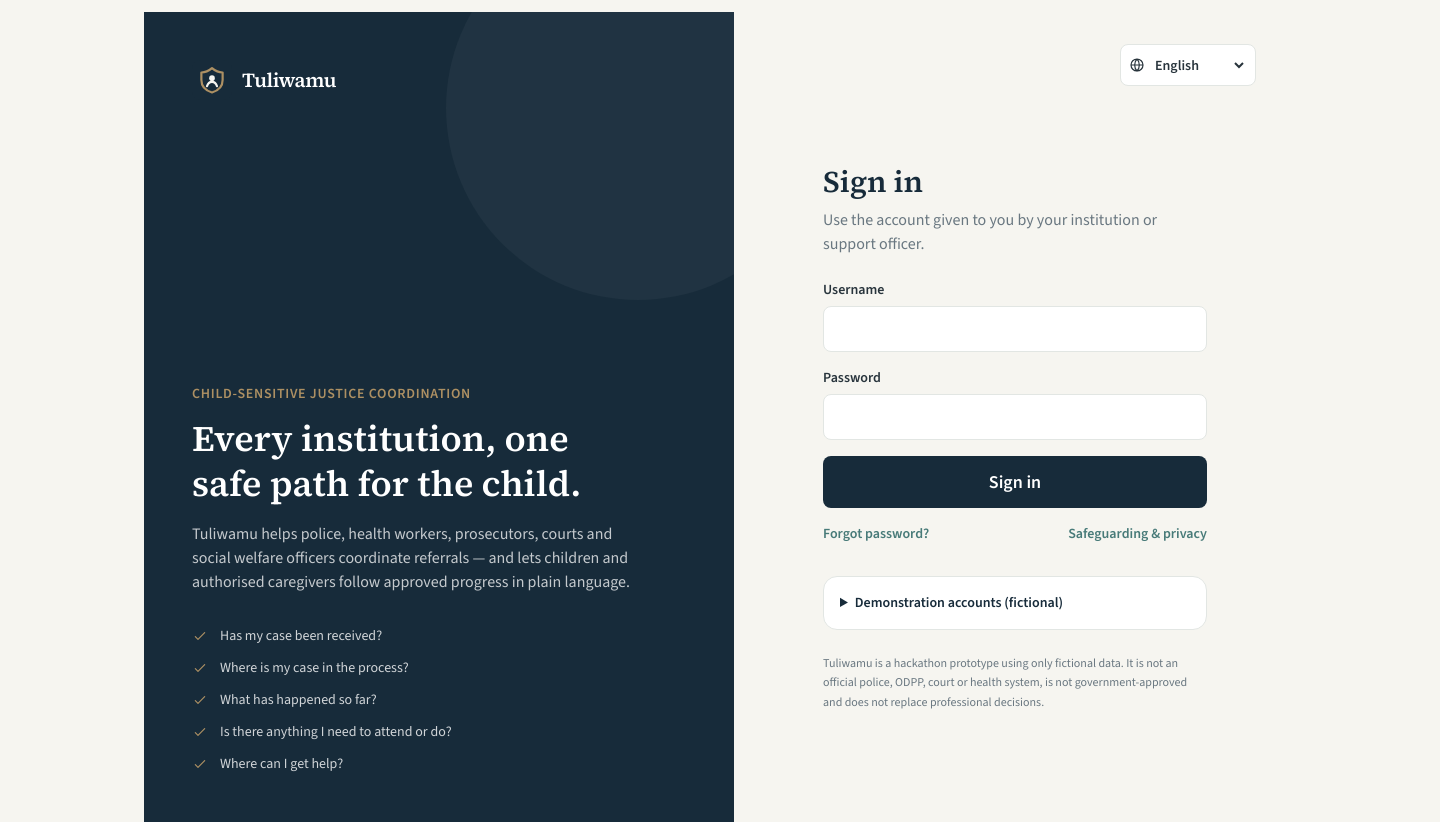
Test: authentication journeys › shows a generic error for wrong credentials
Type "x" into the field labelled "Username" at [1015, 329], box 823,306 -> 1207,352
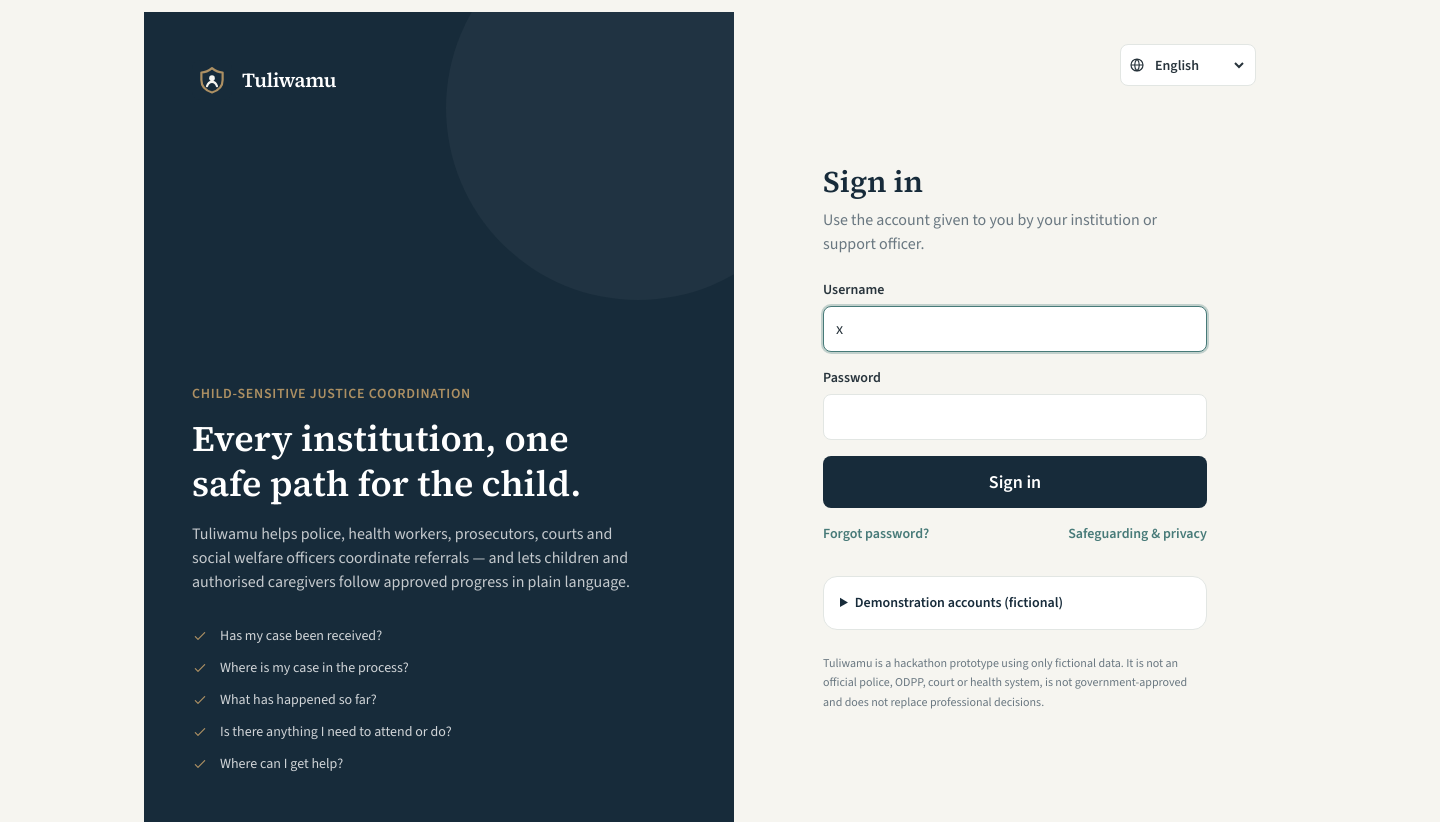
Type "y" into the password field labelled "Password" at [1015, 417], box 823,394 -> 1207,440
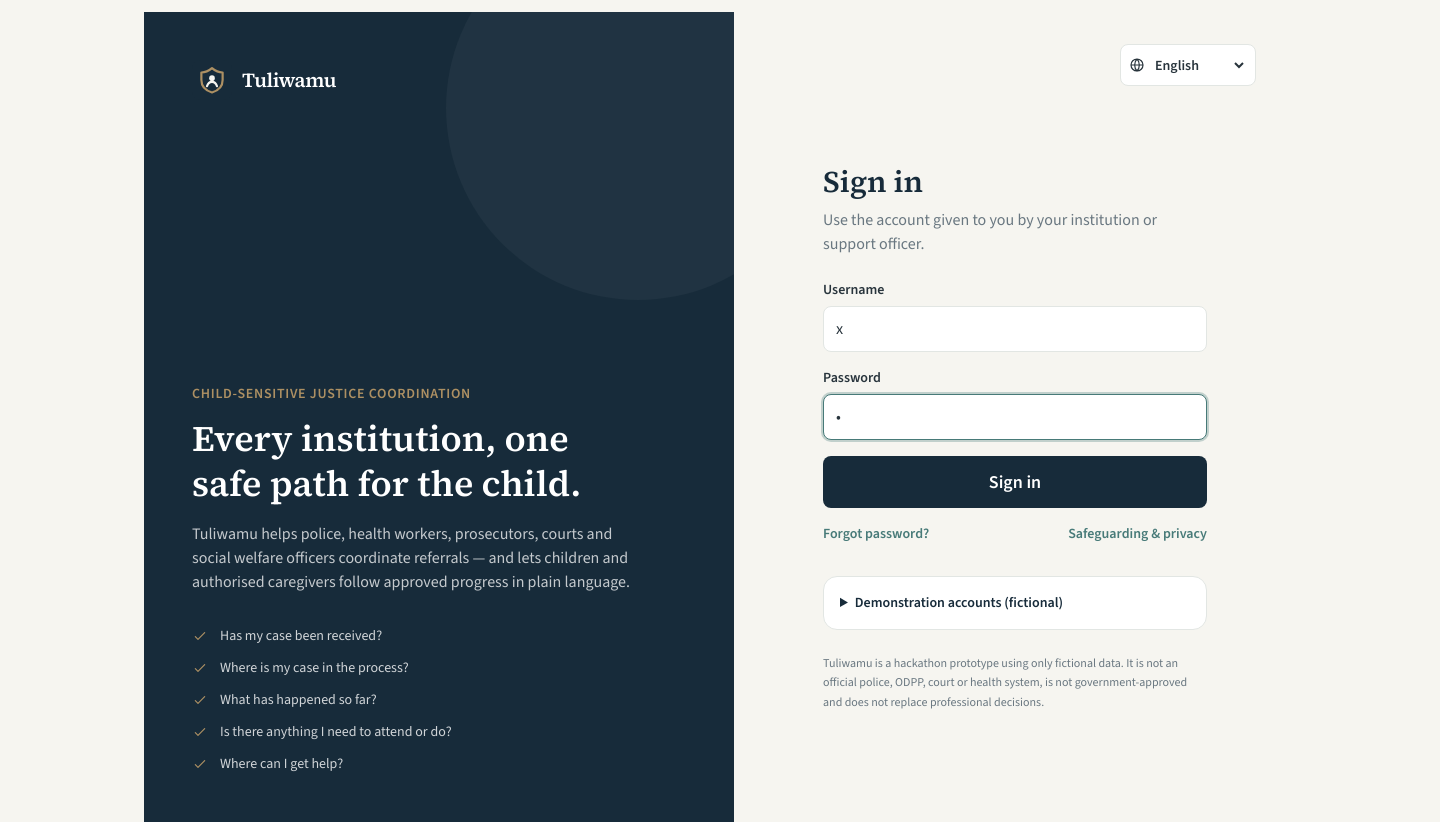
Click the button "Sign in" at [1015, 482], box 823,456 -> 1207,508
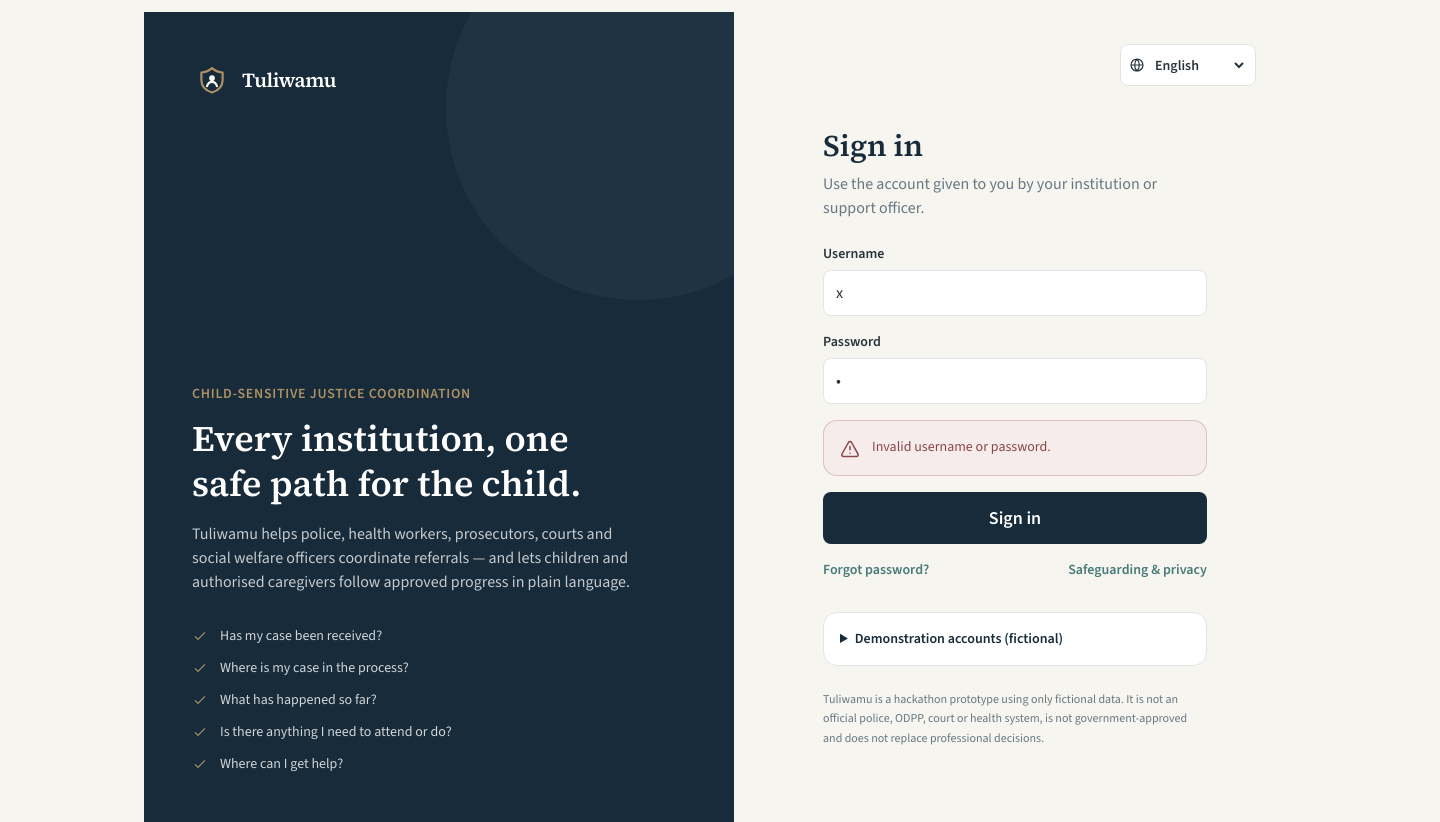
Check: the text "Invalid username or password." is shown, box 872,437 -> 1051,457
